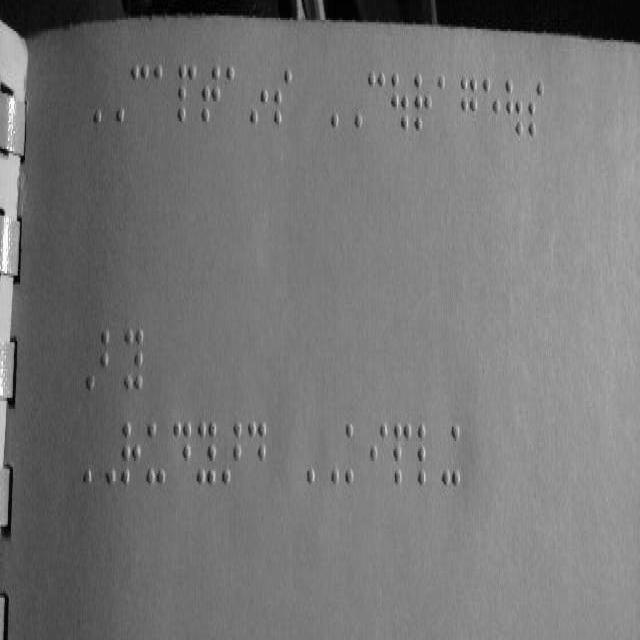braiile: (118, 411, 144, 496), (172, 414, 194, 494), (196, 414, 218, 494), (246, 416, 268, 496), (122, 322, 146, 394), (145, 414, 167, 492), (414, 414, 436, 492), (200, 56, 223, 130), (176, 58, 198, 134), (272, 61, 294, 130), (365, 65, 387, 132), (129, 59, 149, 132), (153, 59, 173, 132), (437, 66, 457, 138), (392, 418, 411, 493), (460, 69, 480, 140), (482, 71, 502, 142), (368, 420, 388, 491), (412, 67, 432, 136), (226, 58, 244, 129), (526, 78, 544, 140)
